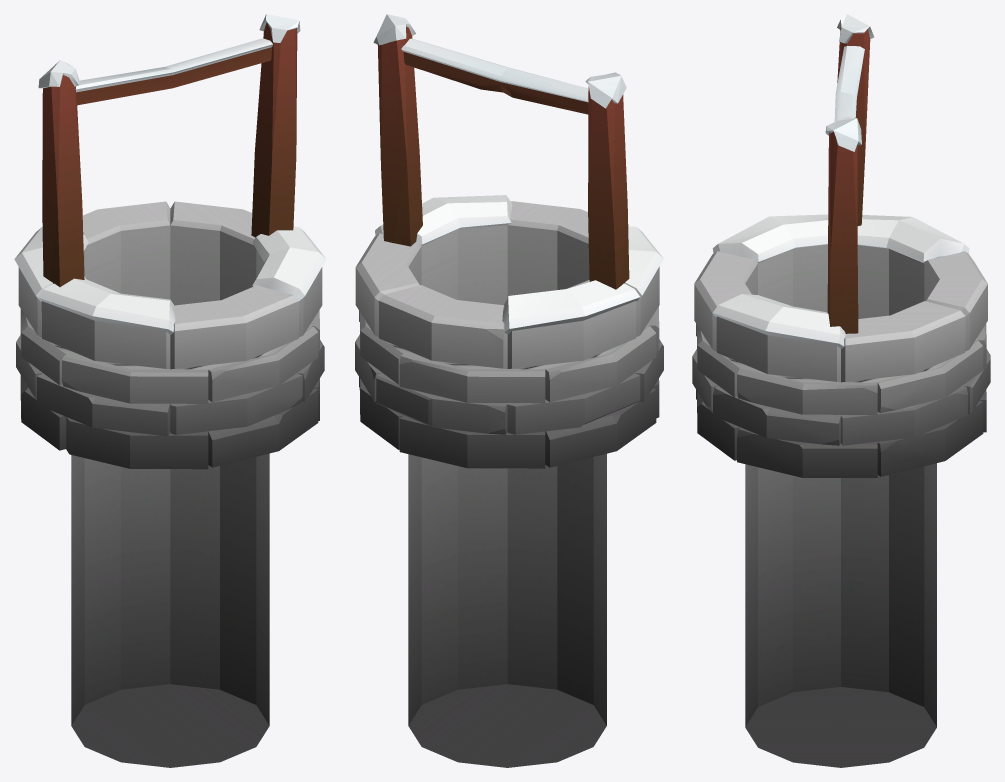
3 views of the same model, side by side, from view 1: azimuth 30°, elevation 25°; view 2: azimuth 150°, elevation 25°; view 3: azimuth 270°, elevation 25° (orthographic). The views are drawn at different scales.
Parts seen in each view (by area): view 1: Well; view 2: Well; view 3: Well.
Boxes of the visible parts, box(x1,y1,x2,y2) form: Well: box(14, 14, 326, 767); Well: box(355, 14, 663, 767); Well: box(692, 14, 990, 767).
Bounding box in the file's own units: 2.75 × 6.65 × 2.73.
1 material, 1 textured.
